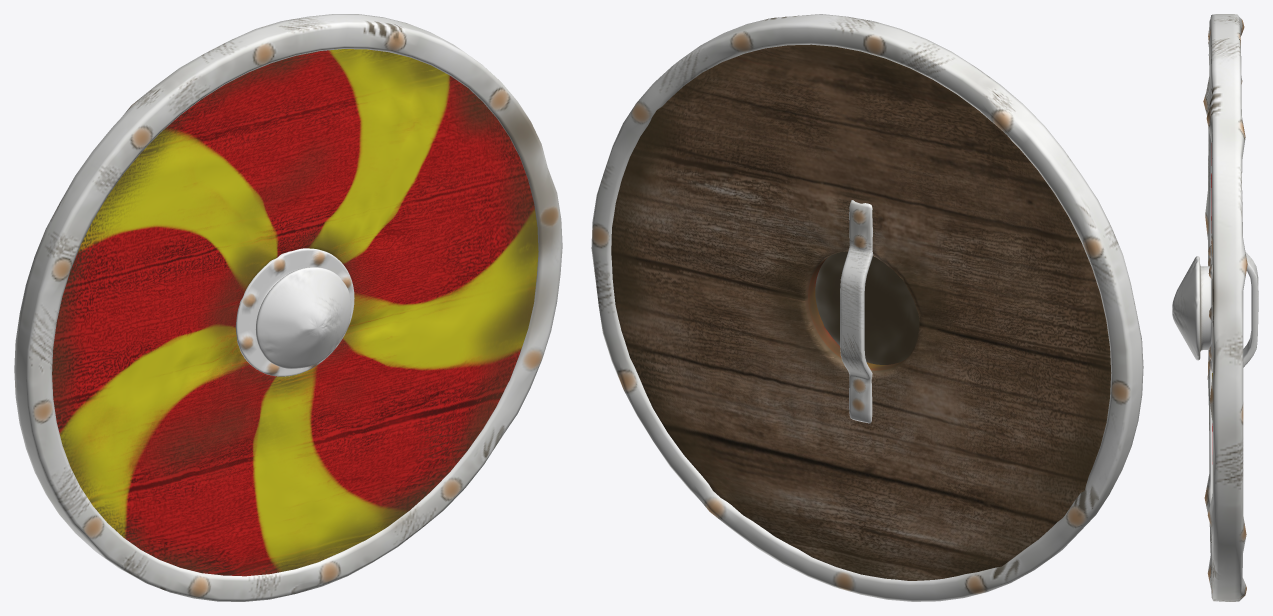
File: basic_shield.glb
3 renders of one model, left to right at view 1: azimuth 30°, elevation 25°; view 2: azimuth 150°, elevation 25°; view 3: azimuth 270°, elevation 25°, orthographic. The views are drawn at different scales.
Visible parts, largest first — view 1: Shield 13; view 2: Shield 13; view 3: Shield 13.
Boxes of the visible parts, box(x1,y1,x2,y2) form: Shield 13: box(14, 14, 562, 601); Shield 13: box(591, 14, 1143, 601); Shield 13: box(1172, 14, 1258, 601).
Bounding box in the file's own units: 2.01 × 2.01 × 0.2948.
1 material, 1 textured.
